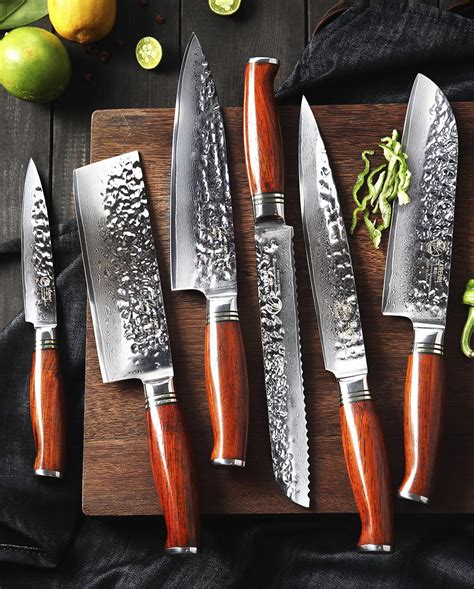knife: (72, 150, 200, 557), (294, 94, 394, 549), (166, 33, 250, 469), (383, 71, 461, 505), (241, 58, 311, 509), (19, 156, 63, 483)
